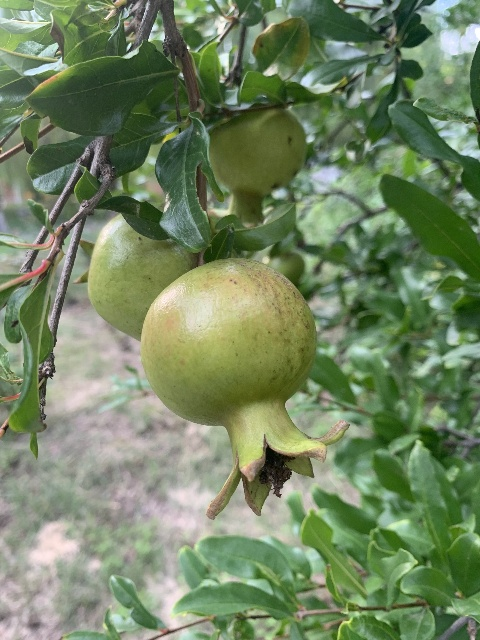mid-growth: (140, 257, 351, 522), (84, 214, 197, 336), (205, 108, 307, 227)
